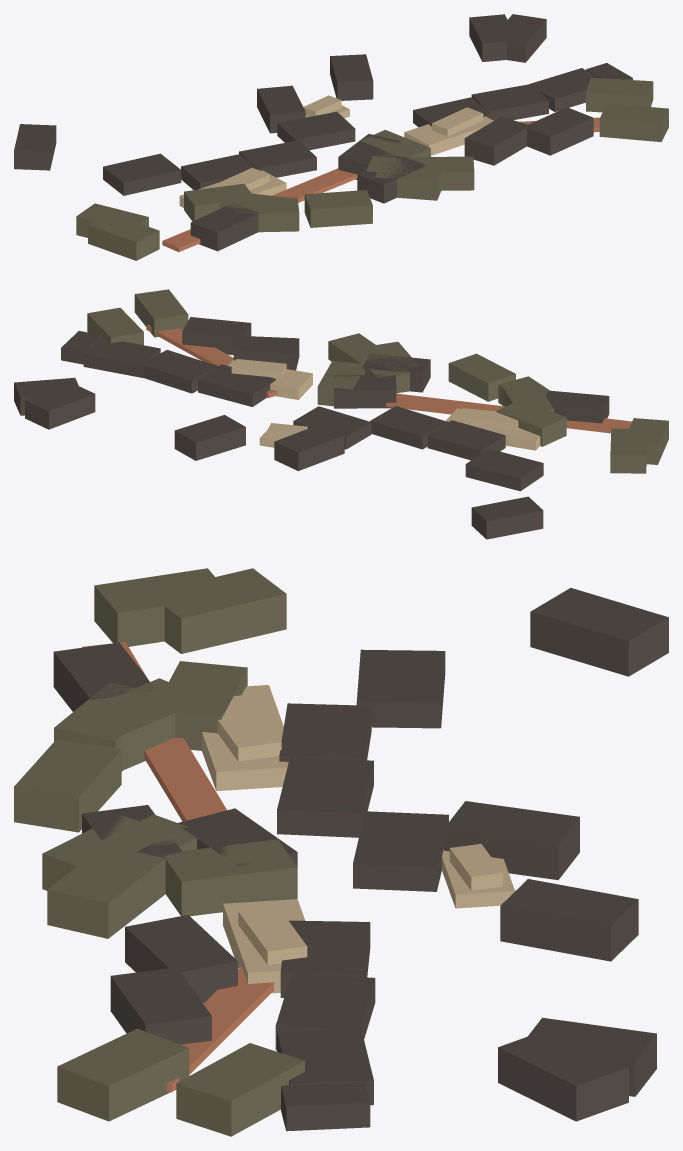
Rendered from SM_MuroSacos_v3_Tablon_e3_Brecha_LOD0.fbx.
3 renders of one model, top to bottom at view 1: azimuth 30°, elevation 25°; view 2: azimuth 150°, elevation 25°; view 3: azimuth 270°, elevation 25°, orthographic. The views are drawn at different scales.
Visible parts, largest first — view 1: SM_bloques.muro_sacos_estados_v15_LOD0; view 2: SM_bloques.muro_sacos_estados_v15_LOD0; view 3: SM_bloques.muro_sacos_estados_v15_LOD0.
Boxes of the visible parts, x1,y1,x2,y2 form: SM_bloques.muro_sacos_estados_v15_LOD0: (14,14,668,260); SM_bloques.muro_sacos_estados_v15_LOD0: (14,289,668,539); SM_bloques.muro_sacos_estados_v15_LOD0: (14,568,668,1136).
Bounding box in the file's own units: 8.36 × 0.26 × 4.34.
